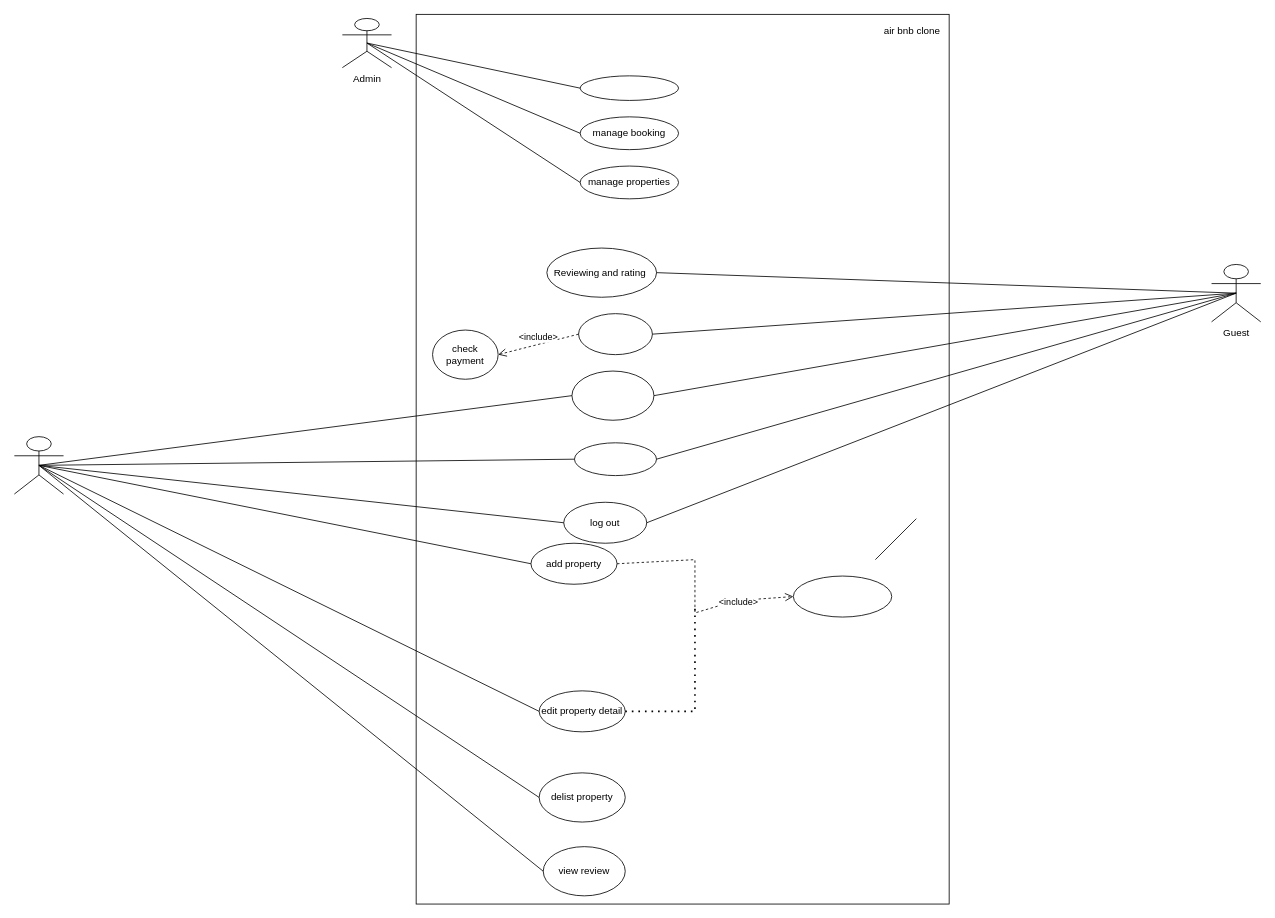
The diagram is 1275 pixels wide and 918 high, and some of its shapes have lost their labels. The box of each missing label's shape, as (x1, y1, x2, y2) in pixels:
Book Property: (578, 313, 652, 355)
create account: (571, 370, 654, 420)
enter property detail: (793, 575, 892, 617)
host: (14, 436, 64, 494)
log in: (574, 442, 656, 476)
Manage user: (579, 75, 679, 100)
